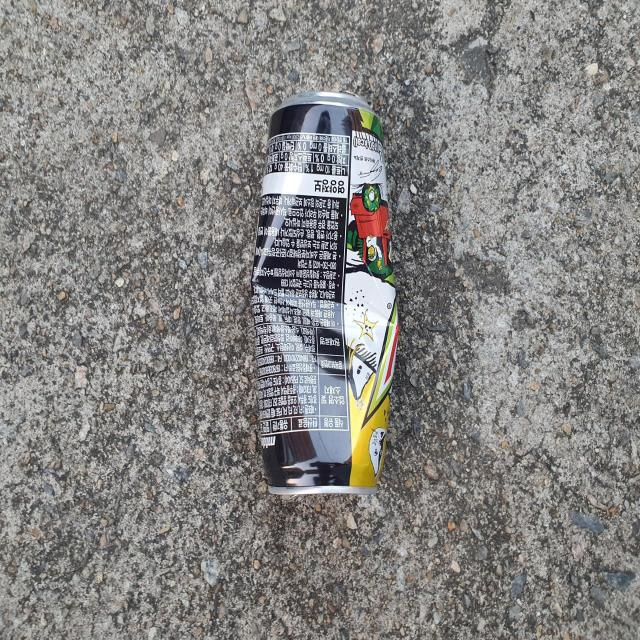can: (251, 91, 399, 495)
